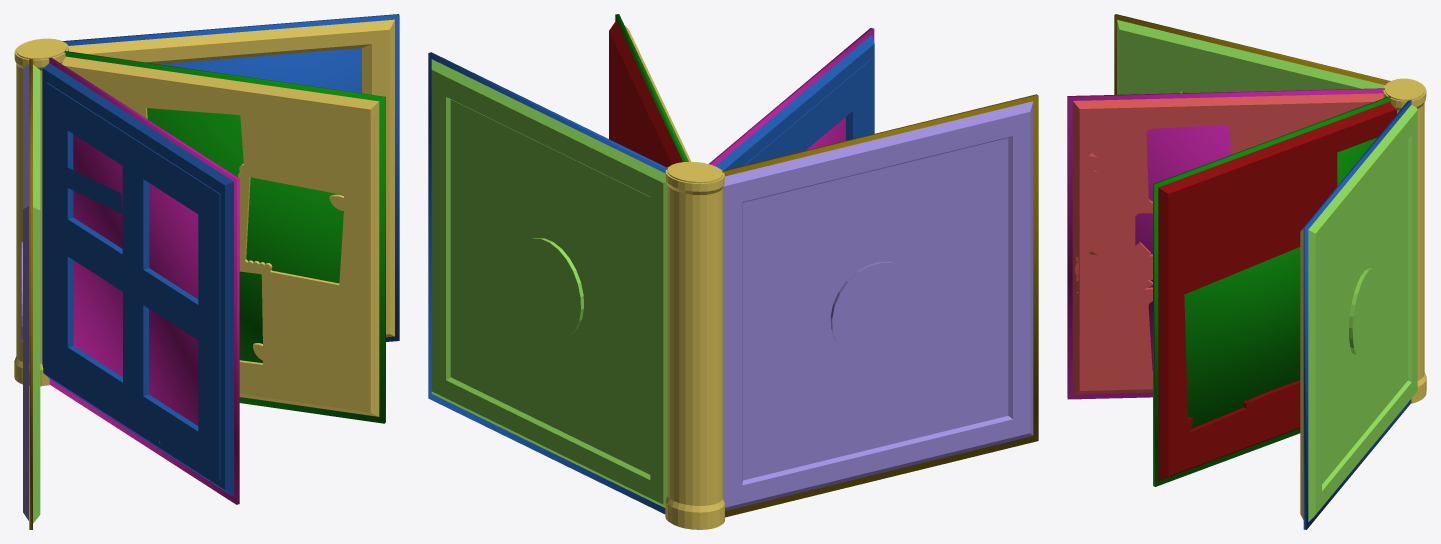
Rendered from photo-album.obj.
3 renders of one model, left to right at view 1: azimuth 30°, elevation 25°; view 2: azimuth 150°, elevation 25°; view 3: azimuth 270°, elevation 25°, orthographic. The views are drawn at different scales.
Parts seen in each view (by area): view 1: photo-album_wire_224198087, photo-album_wire_028089177, photo-album_wire_177028149, photo-album_wire_006134006, photo-album_wire_143224087, photo-album_wire_087224198, photo-album_wire_134110008; view 2: photo-album_wire_087224198, photo-album_wire_143224087, photo-album_wire_224198087, photo-album_wire_028089177, photo-album_wire_134110008, photo-album_wire_134006006, photo-album_wire_177028149, photo-album_wire_006134006; view 3: photo-album_wire_143224087, photo-album_wire_134006006, photo-album_wire_224086086, photo-album_wire_006134006, photo-album_wire_177028149, photo-album_wire_224198087, photo-album_wire_028089177, photo-album_wire_134110008.
Part boxes in pixels (x1,y1,x2,y2): photo-album_wire_224198087: (14,19,394,416); photo-album_wire_028089177: (42,14,399,496); photo-album_wire_177028149: (48,57,239,504); photo-album_wire_006134006: (64,51,385,423); photo-album_wire_143224087: (33,64,40,523); photo-album_wire_087224198: (21,64,28,520); photo-album_wire_134110008: (29,59,32,529); photo-album_wire_087224198: (723,101,1033,510); photo-album_wire_143224087: (431,59,667,507); photo-album_wire_224198087: (624,25,724,529); photo-album_wire_028089177: (428,35,874,514); photo-album_wire_134110008: (722,94,1038,517); photo-album_wire_134006006: (609,21,682,167); photo-album_wire_177028149: (709,28,874,165); photo-album_wire_006134006: (615,14,688,161); photo-album_wire_143224087: (1117,20,1417,521); photo-album_wire_134006006: (1158,101,1396,480); photo-album_wire_224086086: (1072,93,1383,394); photo-album_wire_006134006: (1153,96,1390,486); photo-album_wire_177028149: (1067,88,1384,399); photo-album_wire_224198087: (1300,78,1426,519); photo-album_wire_028089177: (1303,100,1411,529); photo-album_wire_134110008: (1114,14,1390,94).
Bounding box in the file's own units: 86.75 × 57.54 × 61.51.
